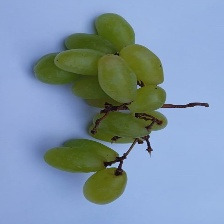grapes: (60, 34, 194, 224)
